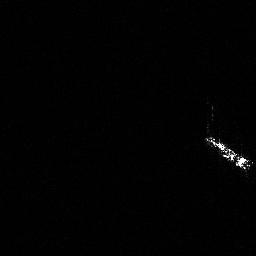ship: (202, 134, 255, 173)
